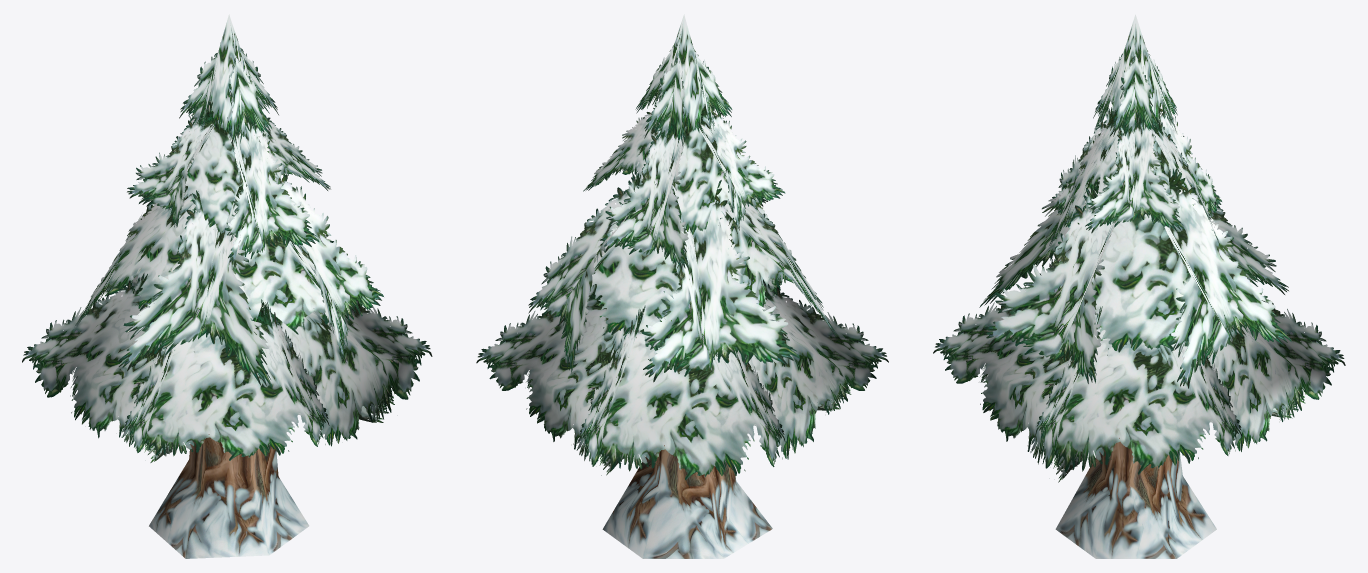
The model's file is ironforgepine01.obj.
3 renders of one model, left to right at view 1: azimuth 30°, elevation 25°; view 2: azimuth 150°, elevation 25°; view 3: azimuth 270°, elevation 25°, orthographic.
Visible parts, largest first — view 1: Geoset0, Geoset1, Geoset2; view 2: Geoset0, Geoset1; view 3: Geoset0, Geoset1.
Part boxes in pixels (<box>): Geoset0: <box>22,14,432,460</box>; Geoset1: <box>149,434,309,558</box>; Geoset2: <box>144,395,394,462</box>; Geoset0: <box>476,14,888,480</box>; Geoset1: <box>602,445,772,558</box>; Geoset0: <box>933,14,1345,474</box>; Geoset1: <box>1055,355,1216,558</box>.
Size of the model in its own units: 34.87 by 53.38 by 40.22.
3 materials, 3 textured.
